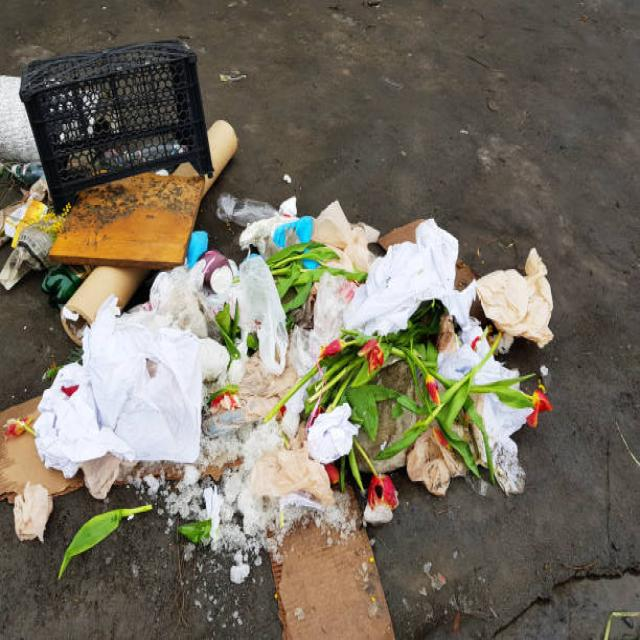cardboard: (59, 170, 206, 268)
